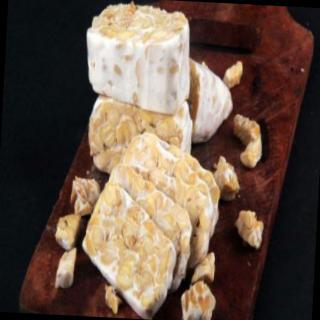Tempe: (78, 128, 225, 320), (82, 2, 194, 116)
